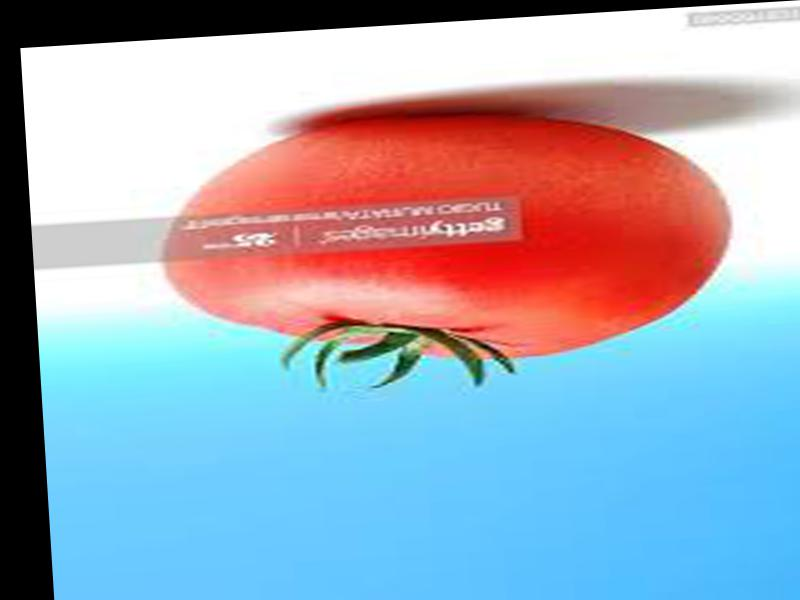Tomato: (152, 100, 734, 378)
